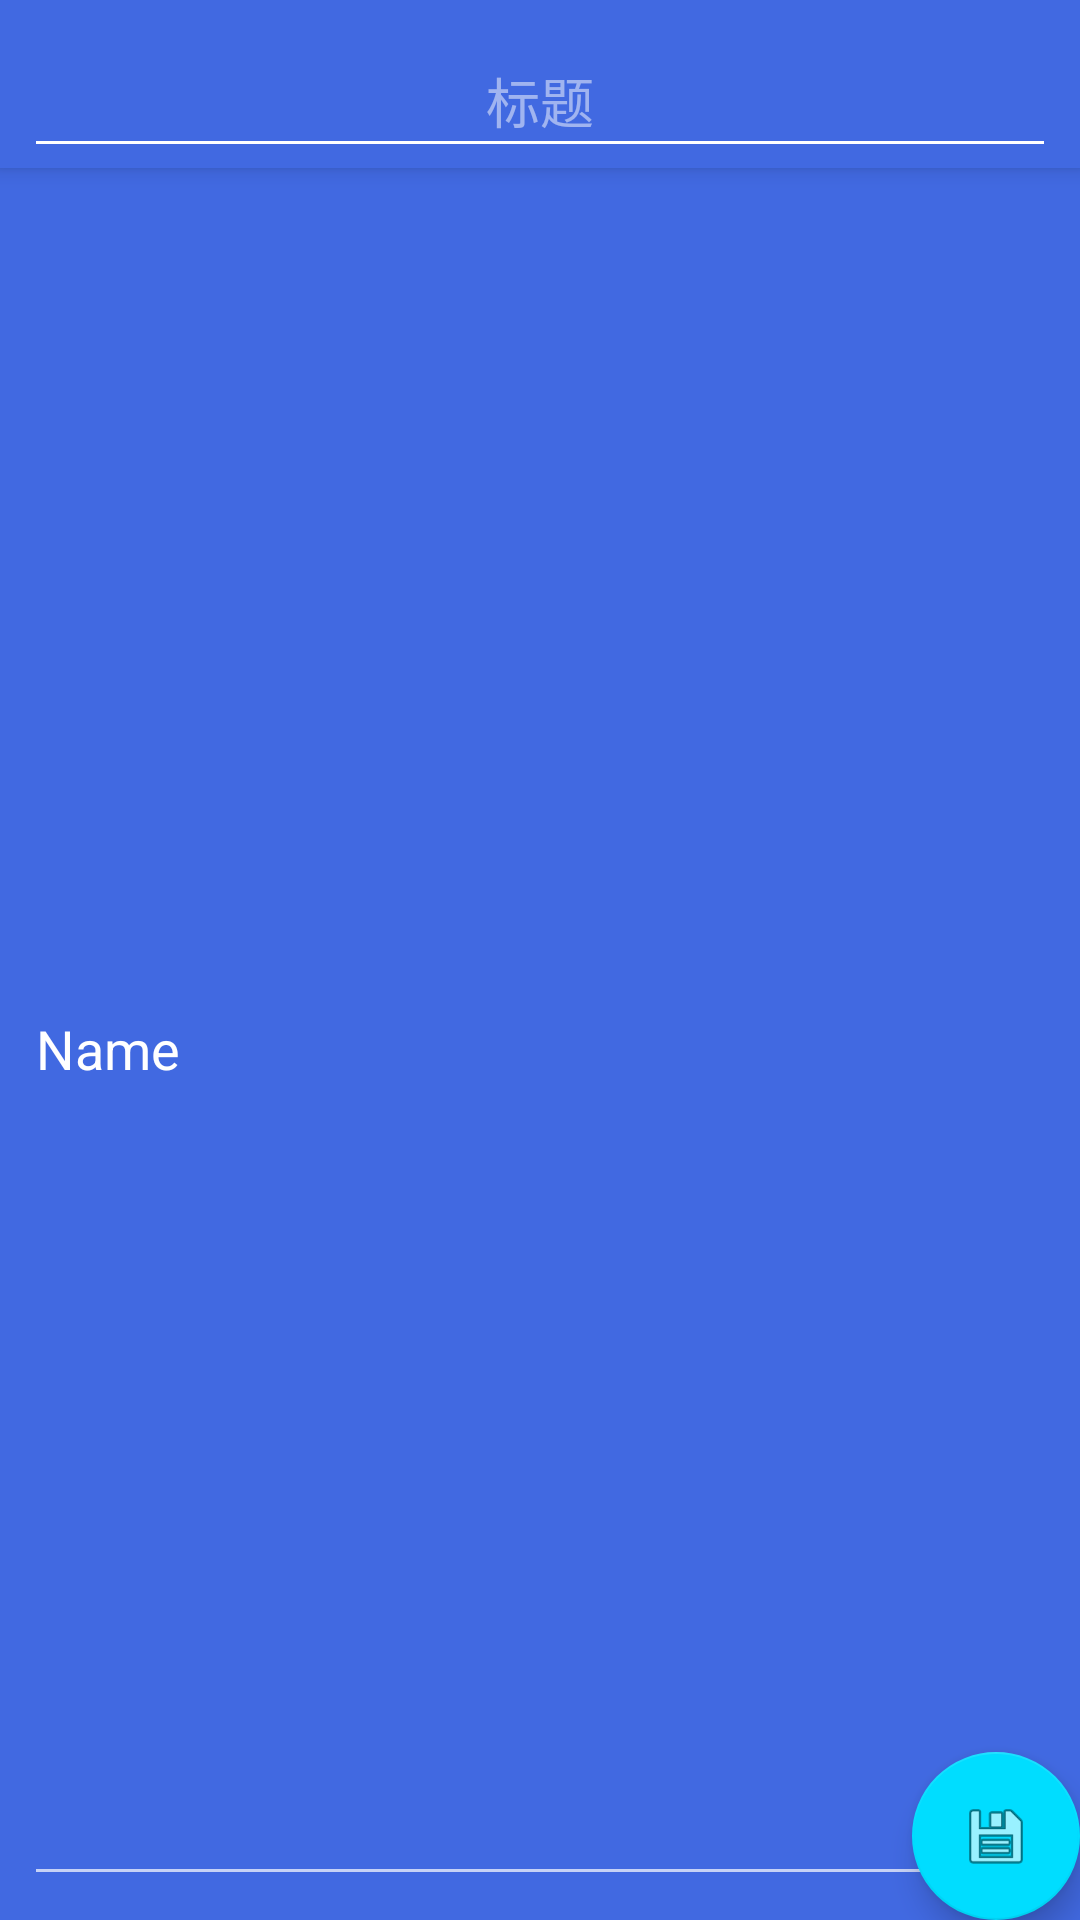

Icon bounding boxes for this 1080w x 1920h phone screenshot, format (x1, y1, x2, y2):
save: (912, 1752, 1080, 1920)
